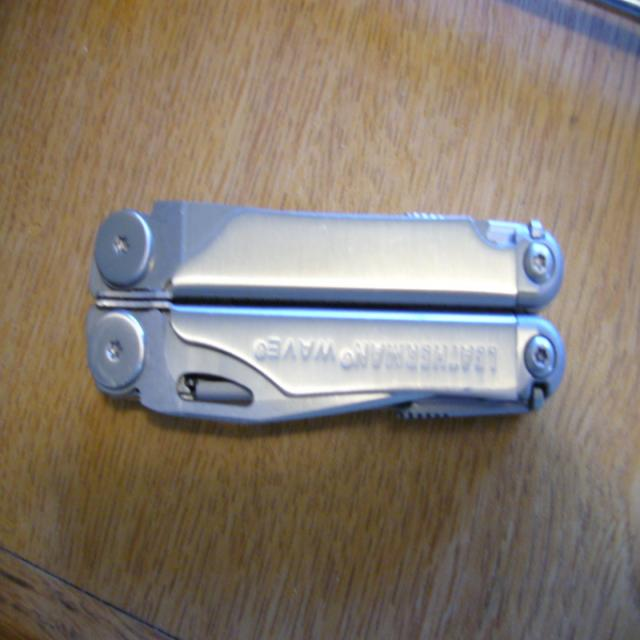tool: (88, 202, 564, 422)
